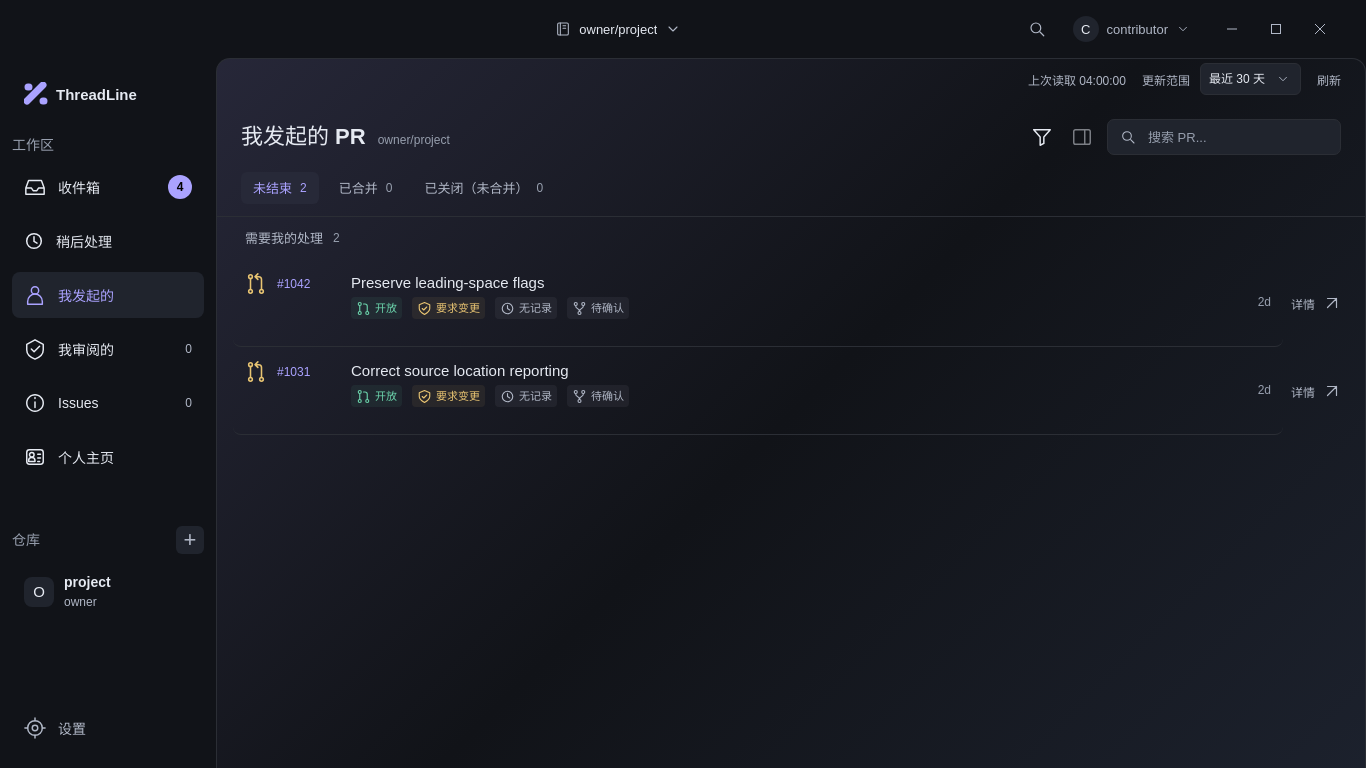
Scenario: requests profile lazily using the selected repository
Expected: the field labelled "搜索 PR" is shown, [1146,128,1328,146]
Click the button "个人主页".
click(108, 457)  # box [12,434,204,480]
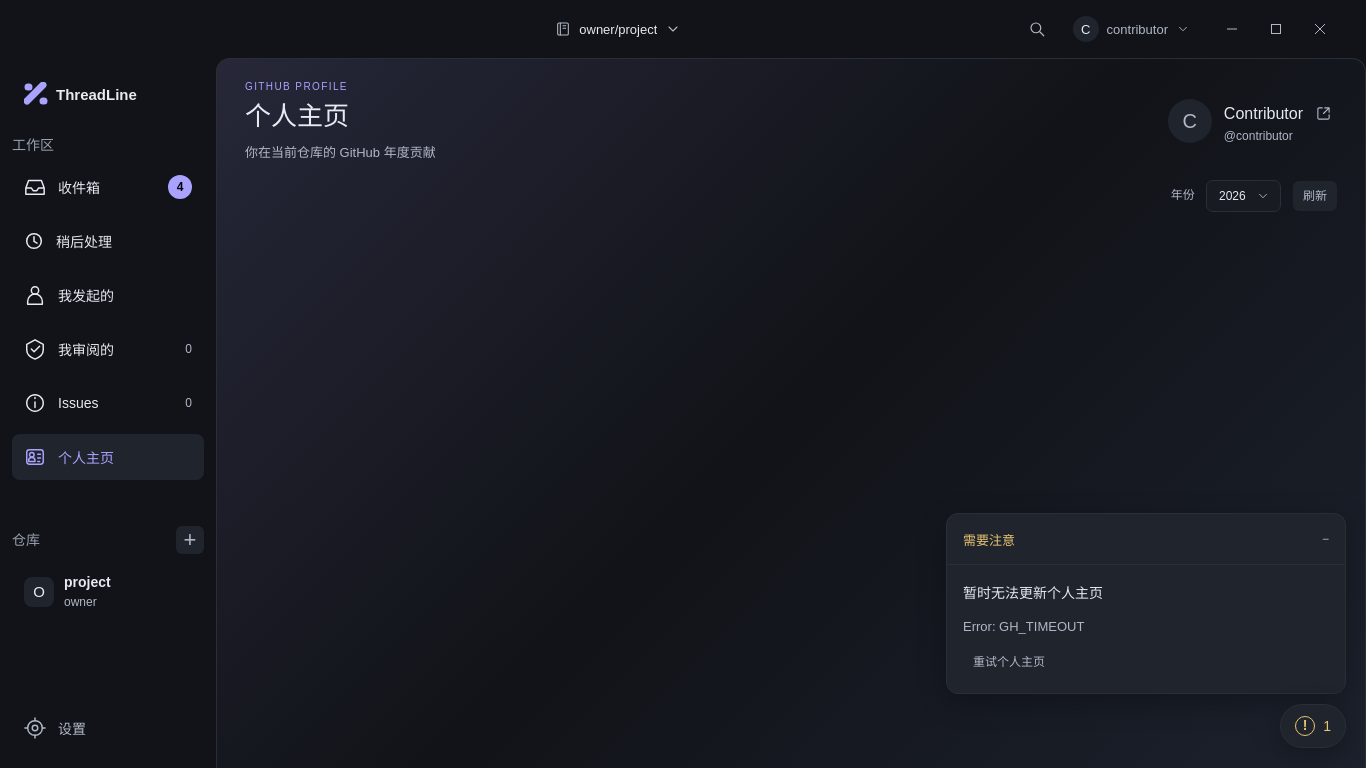
Expected: the heading "个人主页" is shown, [245,101,349,131]
